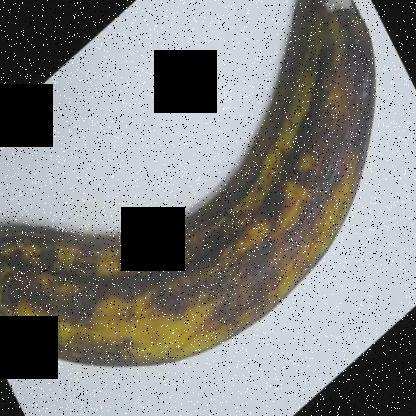overripe: (0, 0, 398, 380)
rotten: (278, 0, 383, 58)
